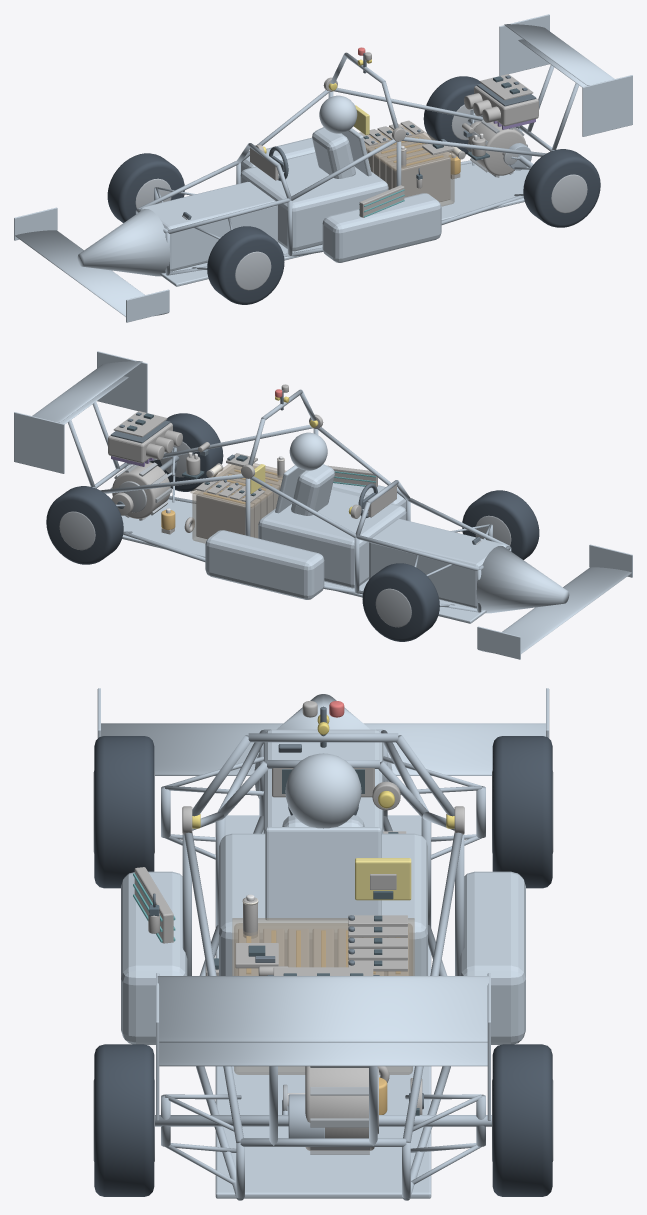
Rendered from car.glb.
3 renders of one model, top to bottom at view 1: azimuth 30°, elevation 25°; view 2: azimuth 150°, elevation 25°; view 3: azimuth 270°, elevation 25°, orthographic. The views are drawn at different scales.
Parts seen in each view (by area): view 1: tub, frontBay, sidepodL, nose, floor, wheelFLTyre, wheelRLTyre, accumulator_container, frontWing, wheelFRTyre, rearPlateL, rearWingUpper (+23 smaller); view 2: tub, frontBay, sidepodR, nose, wheelFRTyre, wheelRRTyre, accumulator_container, frontWing, floor, wheelFLTyre, rearPlateR, rearWingUpper (+24 smaller); view 3: rearWingUpper, floor, frontWing, tub, seat, wheelRLTyre, wheelRRTyre, sidepodR, wheelFRTyre, wheelFLTyre, rearWingLower, sidepodL (+24 smaller).
Part boxes in pixels (box(x1,y1,x2,y2)): tub: box(240, 152, 388, 251); frontBay: box(140, 181, 277, 271); sidepodL: box(322, 193, 441, 262); nose: box(77, 209, 170, 276); floor: box(160, 163, 529, 286); wheelFLTyre: box(207, 226, 284, 304); wheelRLTyre: box(523, 149, 600, 227); accumulator_container: box(365, 126, 454, 206); frontWing: box(15, 230, 168, 316); wheelFRTyre: box(107, 153, 184, 222); rearPlateL: box(582, 75, 632, 136); rearWingUpper: box(504, 24, 614, 85); tub: box(258, 489, 406, 588); frontBay: box(369, 518, 506, 608); sidepodR: box(205, 530, 324, 599); nose: box(476, 546, 569, 613); wheelFRTyre: box(362, 563, 439, 641); wheelRRTyre: box(46, 486, 123, 564); accumulator_container: box(192, 465, 282, 543); frontWing: box(478, 567, 631, 653); floor: box(121, 495, 486, 623); wheelFLTyre: box(462, 490, 539, 559); rearPlateR: box(14, 412, 64, 473); rearWingUpper: box(32, 361, 142, 422); rearWingUpper: box(157, 976, 489, 1042); floor: box(215, 815, 431, 1198); frontWing: box(101, 723, 545, 775); tub: box(219, 833, 427, 975); seat: box(265, 827, 381, 920); wheelRLTyre: box(94, 1044, 154, 1196); wheelRRTyre: box(492, 1044, 552, 1196); sidepodR: box(459, 871, 525, 1044); wheelFRTyre: box(492, 736, 552, 888); wheelFLTyre: box(94, 736, 154, 888); rearWingLower: box(159, 1042, 487, 1066); sidepodL: box(121, 871, 187, 1044).
Bounding box in the file's own units: 7.25 × 2.28 × 2.77.
